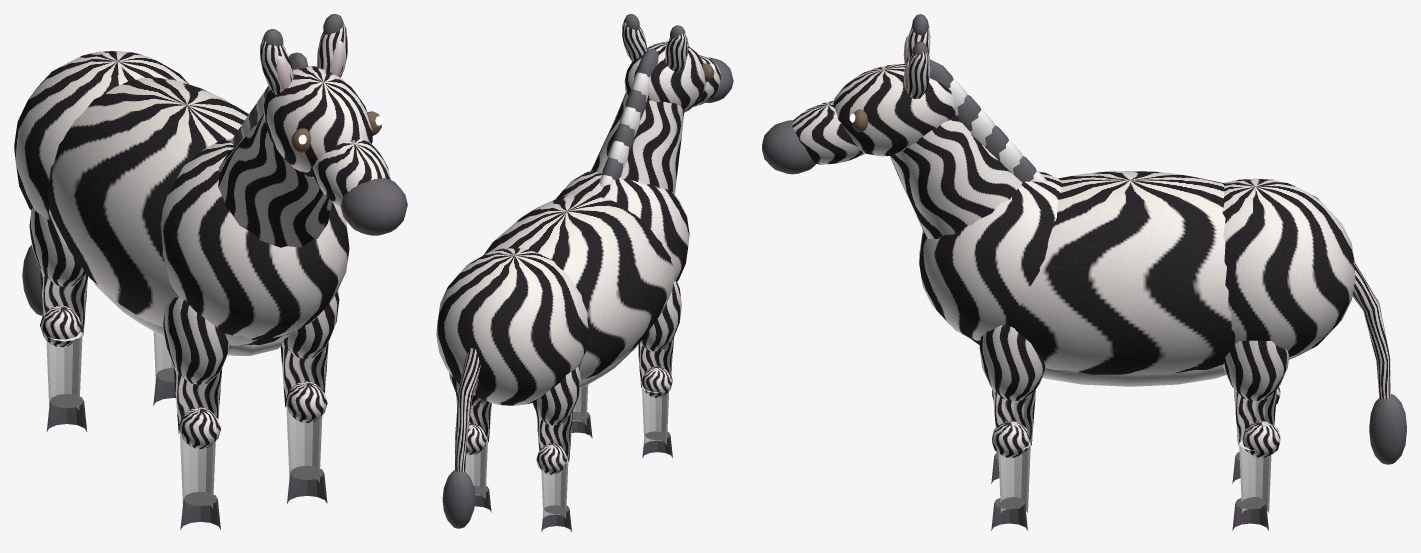
File: anime_zebra.glb
3 renders of one model, left to right at view 1: azimuth 30°, elevation 25°; view 2: azimuth 150°, elevation 25°; view 3: azimuth 270°, elevation 25°, orthographic. The views are drawn at different scales.
Visible parts, largest first — view 1: anime_zebra; view 2: anime_zebra; view 3: anime_zebra.
Part boxes in pixels (x1,y1,x2,y2): anime_zebra: [14, 14, 407, 529]; anime_zebra: [436, 14, 733, 531]; anime_zebra: [762, 14, 1406, 530].
Bounding box in the file's own units: 0.84 × 2.19 × 2.67.
Materials: 6 (1 with a texture image).
